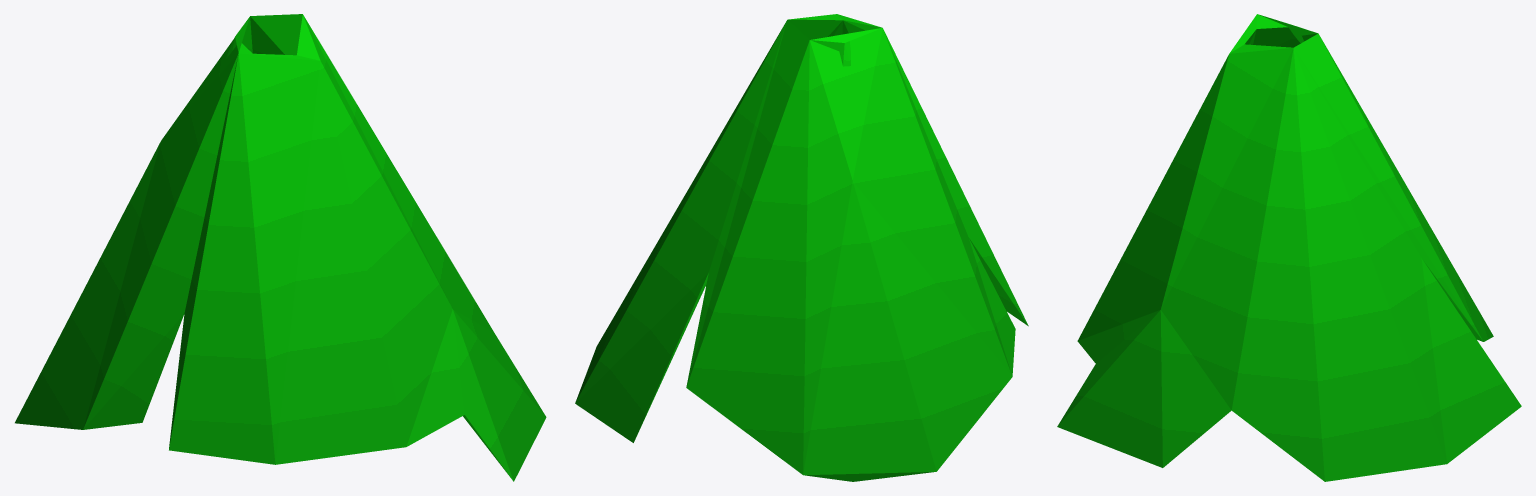
Rendered from Prefab_Foliage_Tree_Spruce_Leaves_E.glb.
3 views of the same model, side by side, from view 1: azimuth 30°, elevation 25°; view 2: azimuth 150°, elevation 25°; view 3: azimuth 270°, elevation 25° (orthographic). The views are drawn at different scales.
Parts seen in each view (by area): view 1: Spruce_A_Trunk.008; view 2: Spruce_A_Trunk.008; view 3: Spruce_A_Trunk.008.
Boxes of the visible parts, x1,y1,x2,y2 form: Spruce_A_Trunk.008: (15,14,546,481); Spruce_A_Trunk.008: (575,14,1028,481); Spruce_A_Trunk.008: (1057,14,1521,481).
Size of the model in its own units: 3.82 by 3.43 by 4.05.
Materials: 1 (1 with a texture image).
